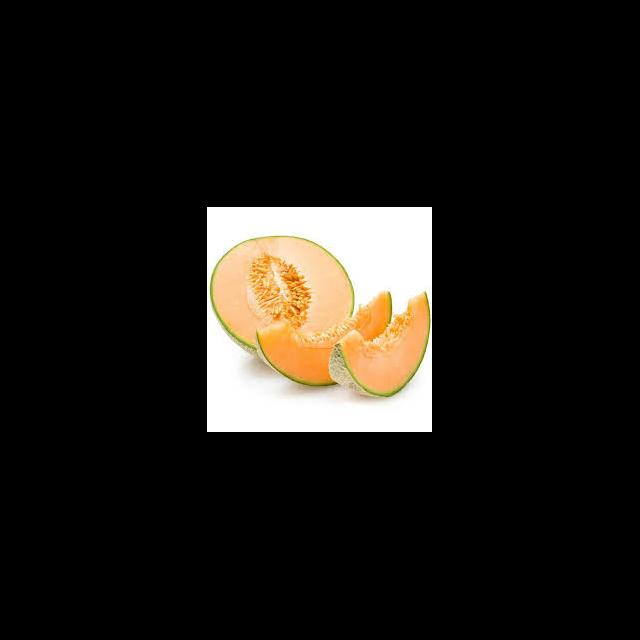Hami Melon: (212, 235, 355, 359), (257, 291, 394, 386), (328, 292, 432, 398)
